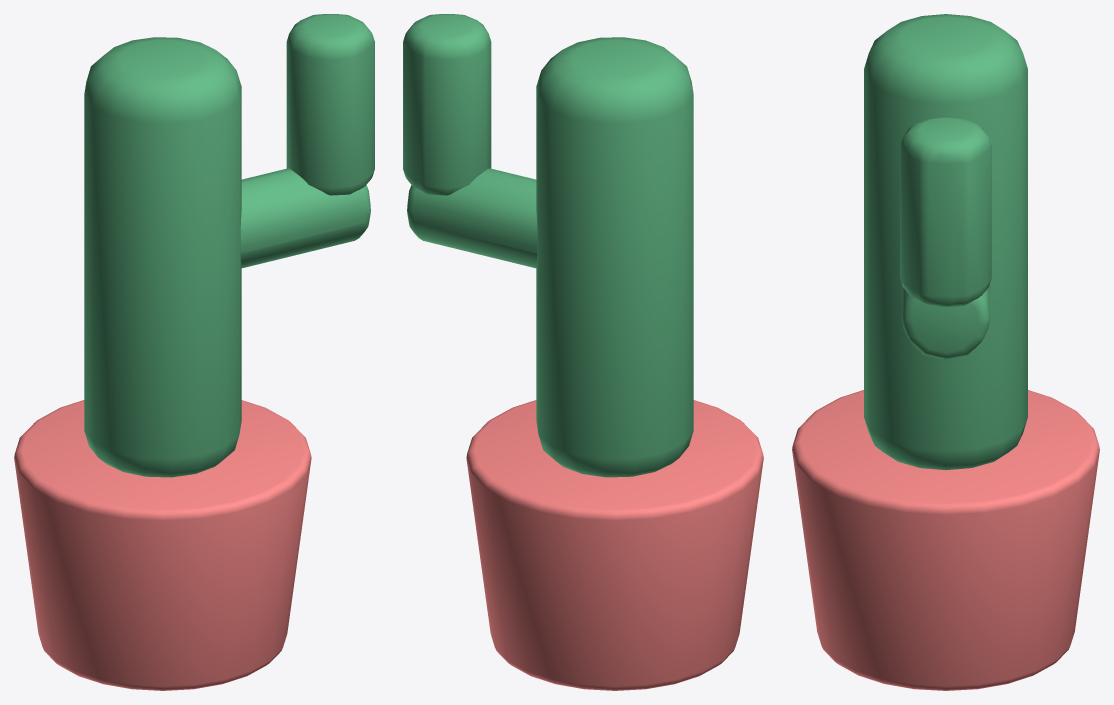
Rendered from cactus.glb.
3 renders of one model, left to right at view 1: azimuth 30°, elevation 25°; view 2: azimuth 150°, elevation 25°; view 3: azimuth 270°, elevation 25°, orthographic. The views are drawn at different scales.
Visible parts, largest first — view 1: cactus; view 2: cactus; view 3: cactus.
Part boxes in pixels (x1,y1,x2,y2): cactus: [14, 14, 374, 690]; cactus: [403, 14, 763, 690]; cactus: [792, 14, 1099, 690].
Bounding box in the file's own units: 0.4354 × 0.73 × 0.3375.
